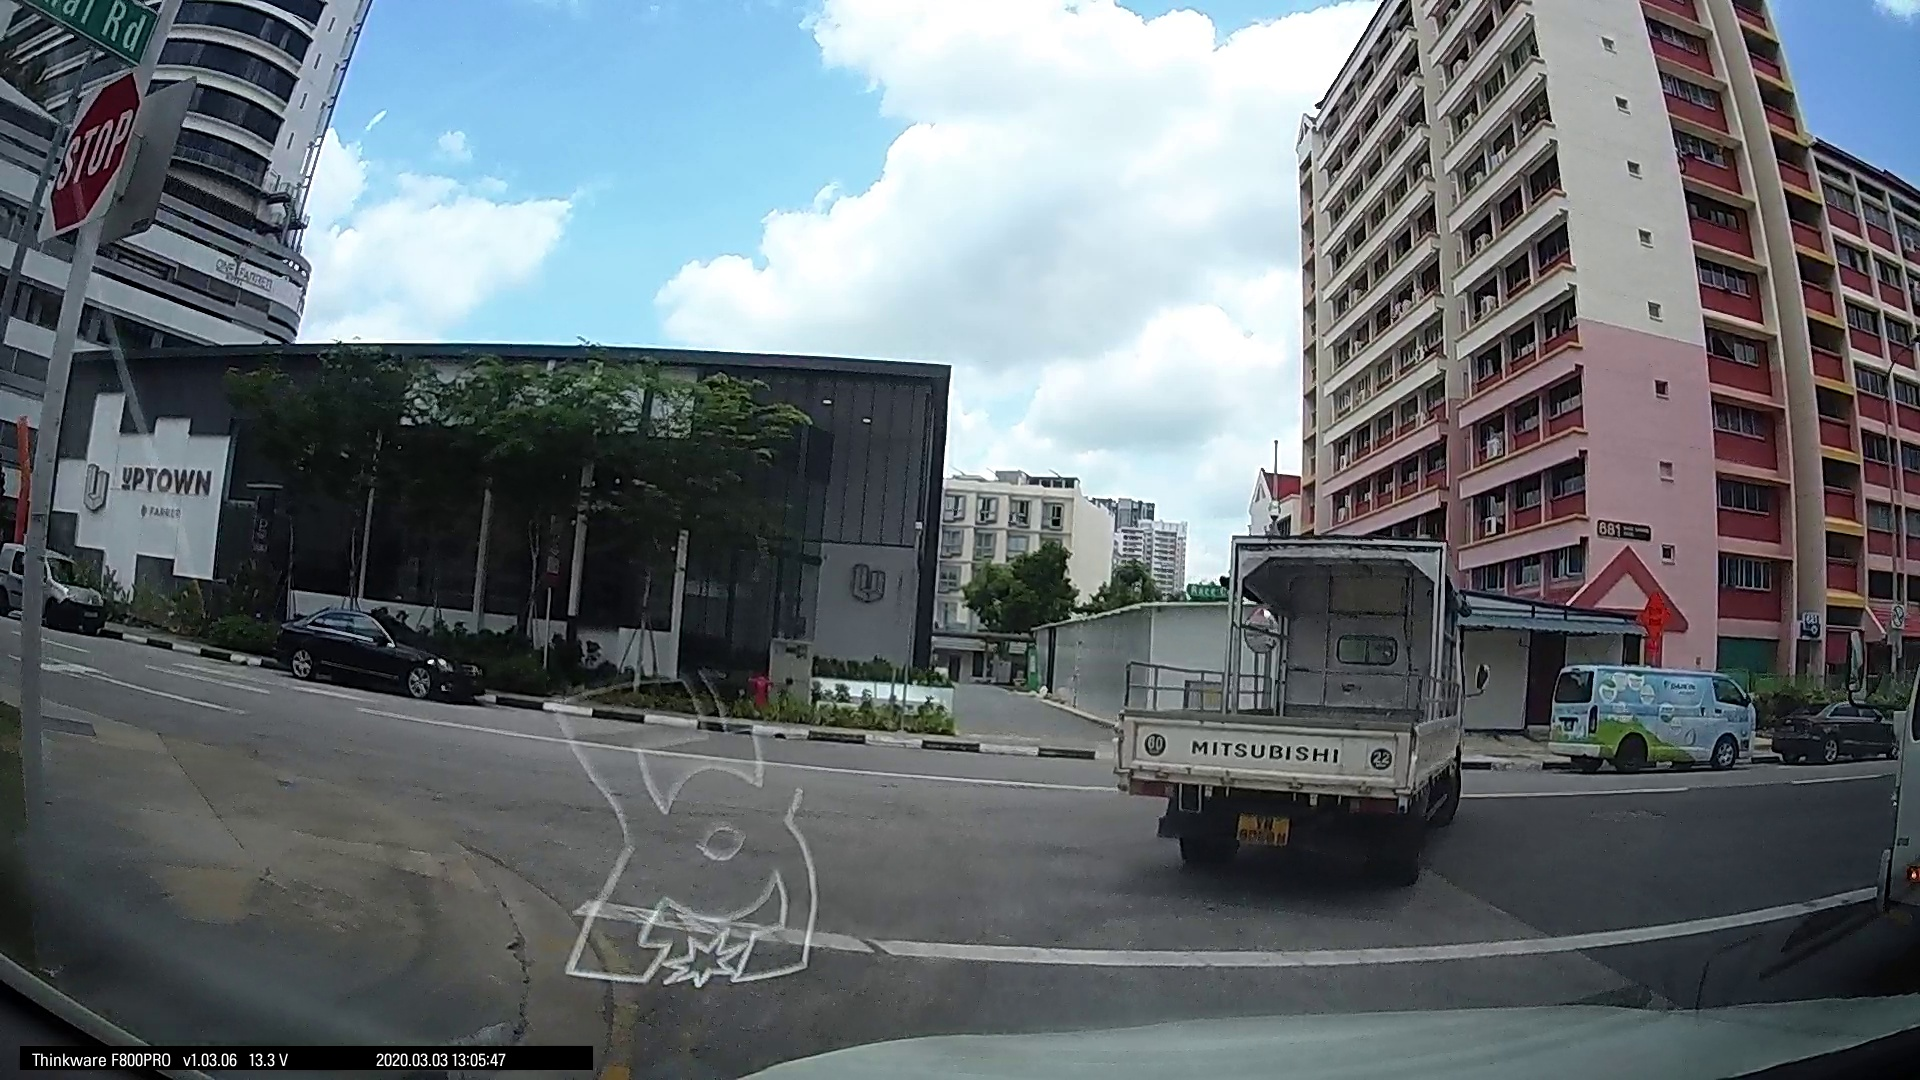Heavy Vehicle: (415, 493, 848, 837), (949, 609, 1031, 695)
Light Vehicle: (1542, 674, 1741, 815), (1764, 702, 1917, 855), (1267, 678, 1338, 729), (928, 645, 992, 700)
